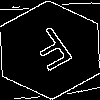F: (25, 25, 82, 80)
